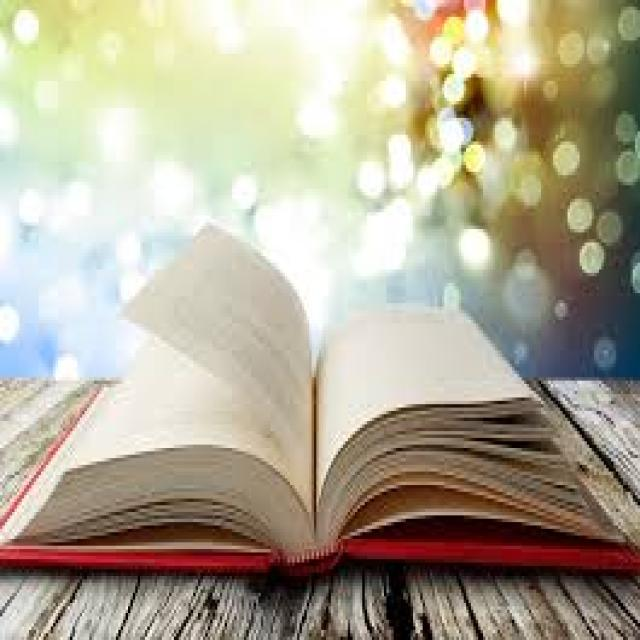book: (0, 209, 640, 595)
